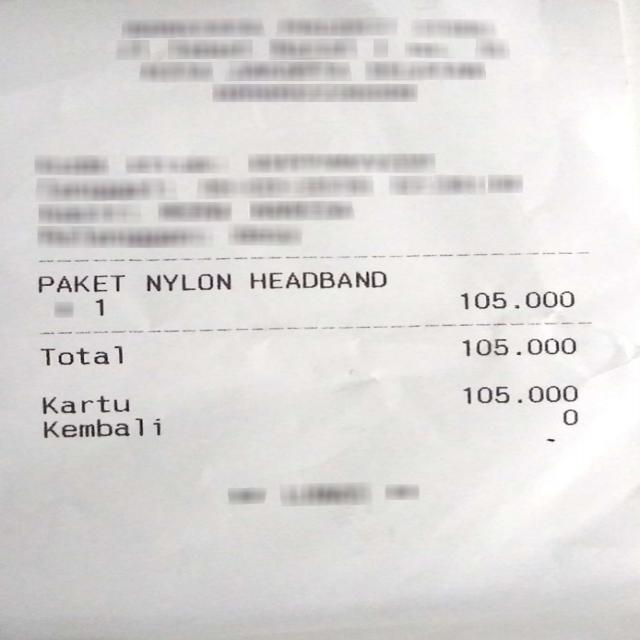text: (250, 270, 385, 289), (40, 417, 158, 437), (464, 384, 575, 403), (459, 290, 574, 308), (462, 337, 575, 355), (39, 345, 124, 365), (35, 274, 125, 292), (144, 272, 229, 291), (42, 395, 128, 413), (560, 408, 577, 425), (91, 297, 106, 316)
